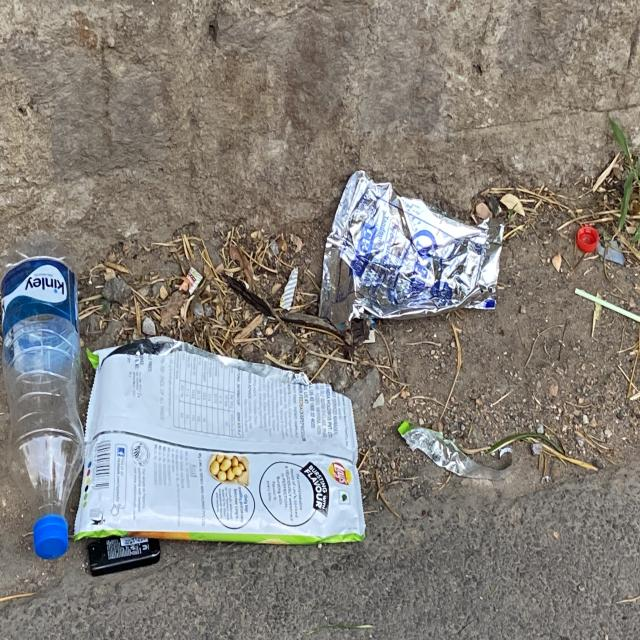chai_nhua: (0, 235, 83, 559)
giay_goi: (74, 337, 365, 544)
nhom: (319, 170, 505, 328)
nhua: (578, 224, 600, 252)
